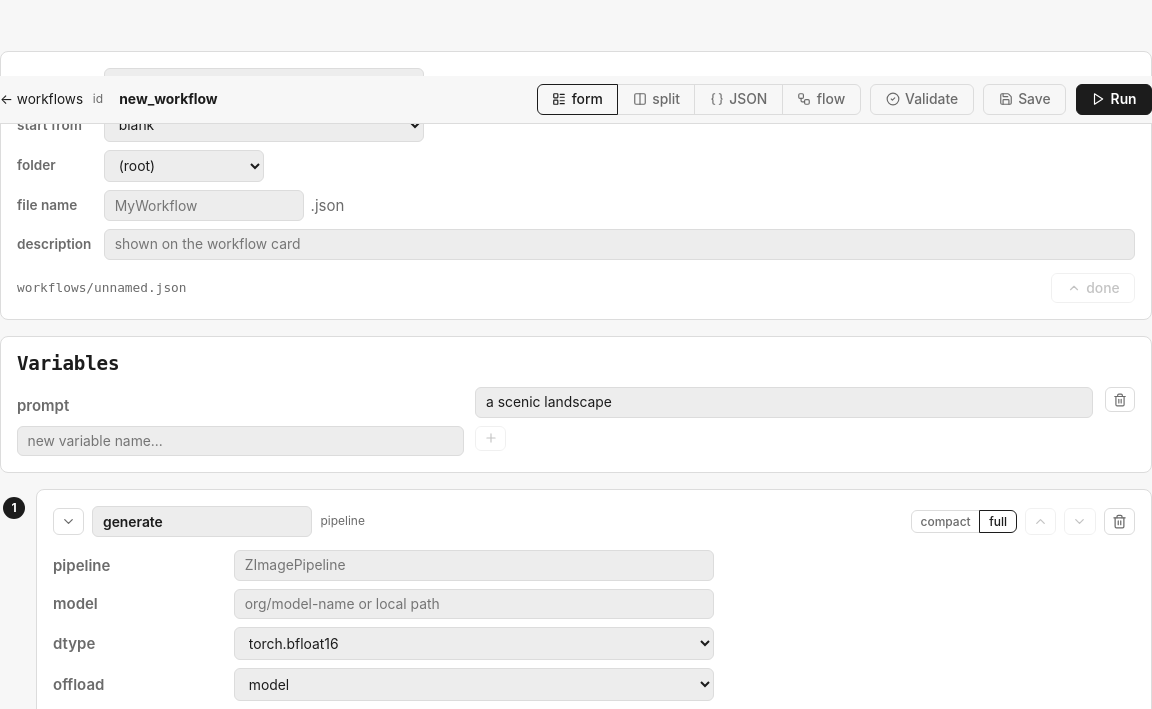
EditorPage view switch › defaults to the form view and shows/hides the flow diagram on toggle
The width and height of the screenshot is (1152, 709).
Expected: the field named "workflow id" is shown, [109, 84, 352, 115]
Expected: the text "Read-only data-flow view" is not shown
Click the button titled "read-only data-flow diagram: steps as boxes, previous_result as edges" at (821, 99), box [782, 84, 861, 115]
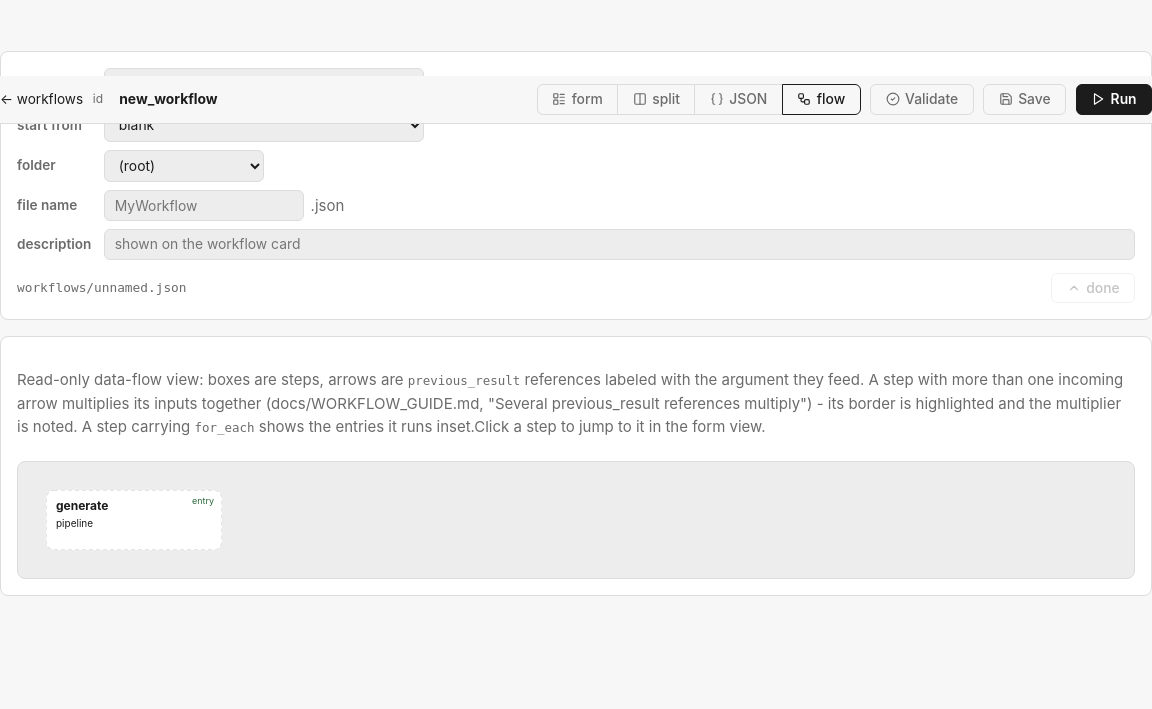
Now the text "Read-only data-flow view" is shown, box [17, 370, 408, 390]
Click the button "form" at (577, 99), box [537, 84, 618, 115]
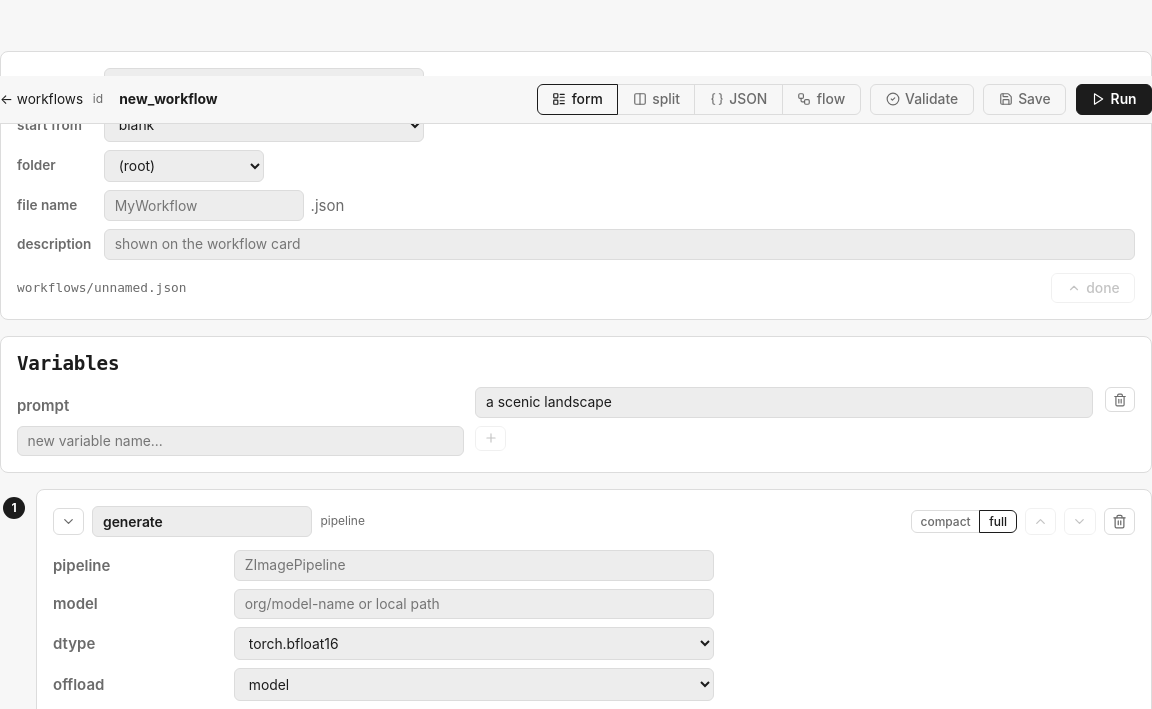
Now the text "Read-only data-flow view" is gone
